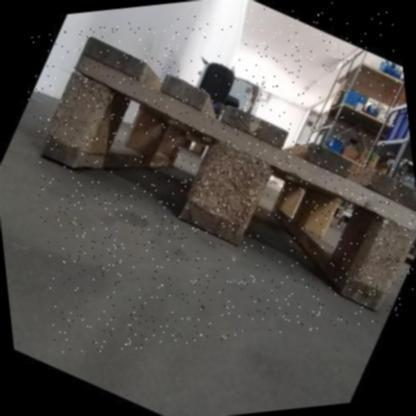pallet: (40, 29, 416, 304)
